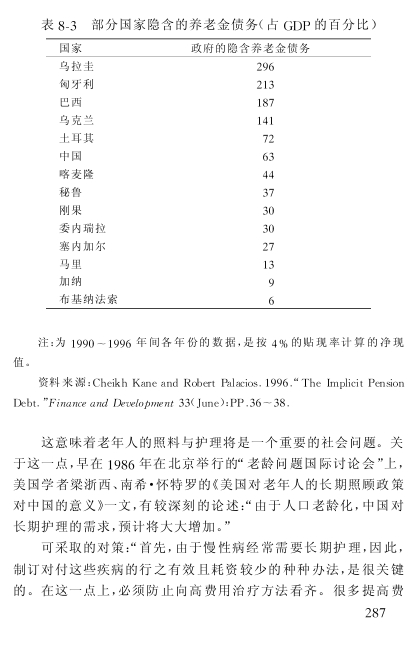table: (46, 38, 370, 310)
